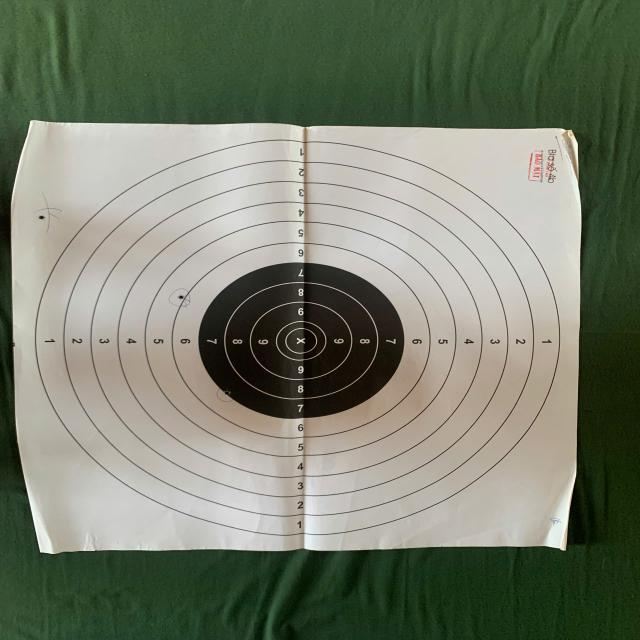bullet: (222, 390, 231, 395), (39, 215, 45, 220), (178, 294, 184, 299)
target: (12, 121, 580, 552)
